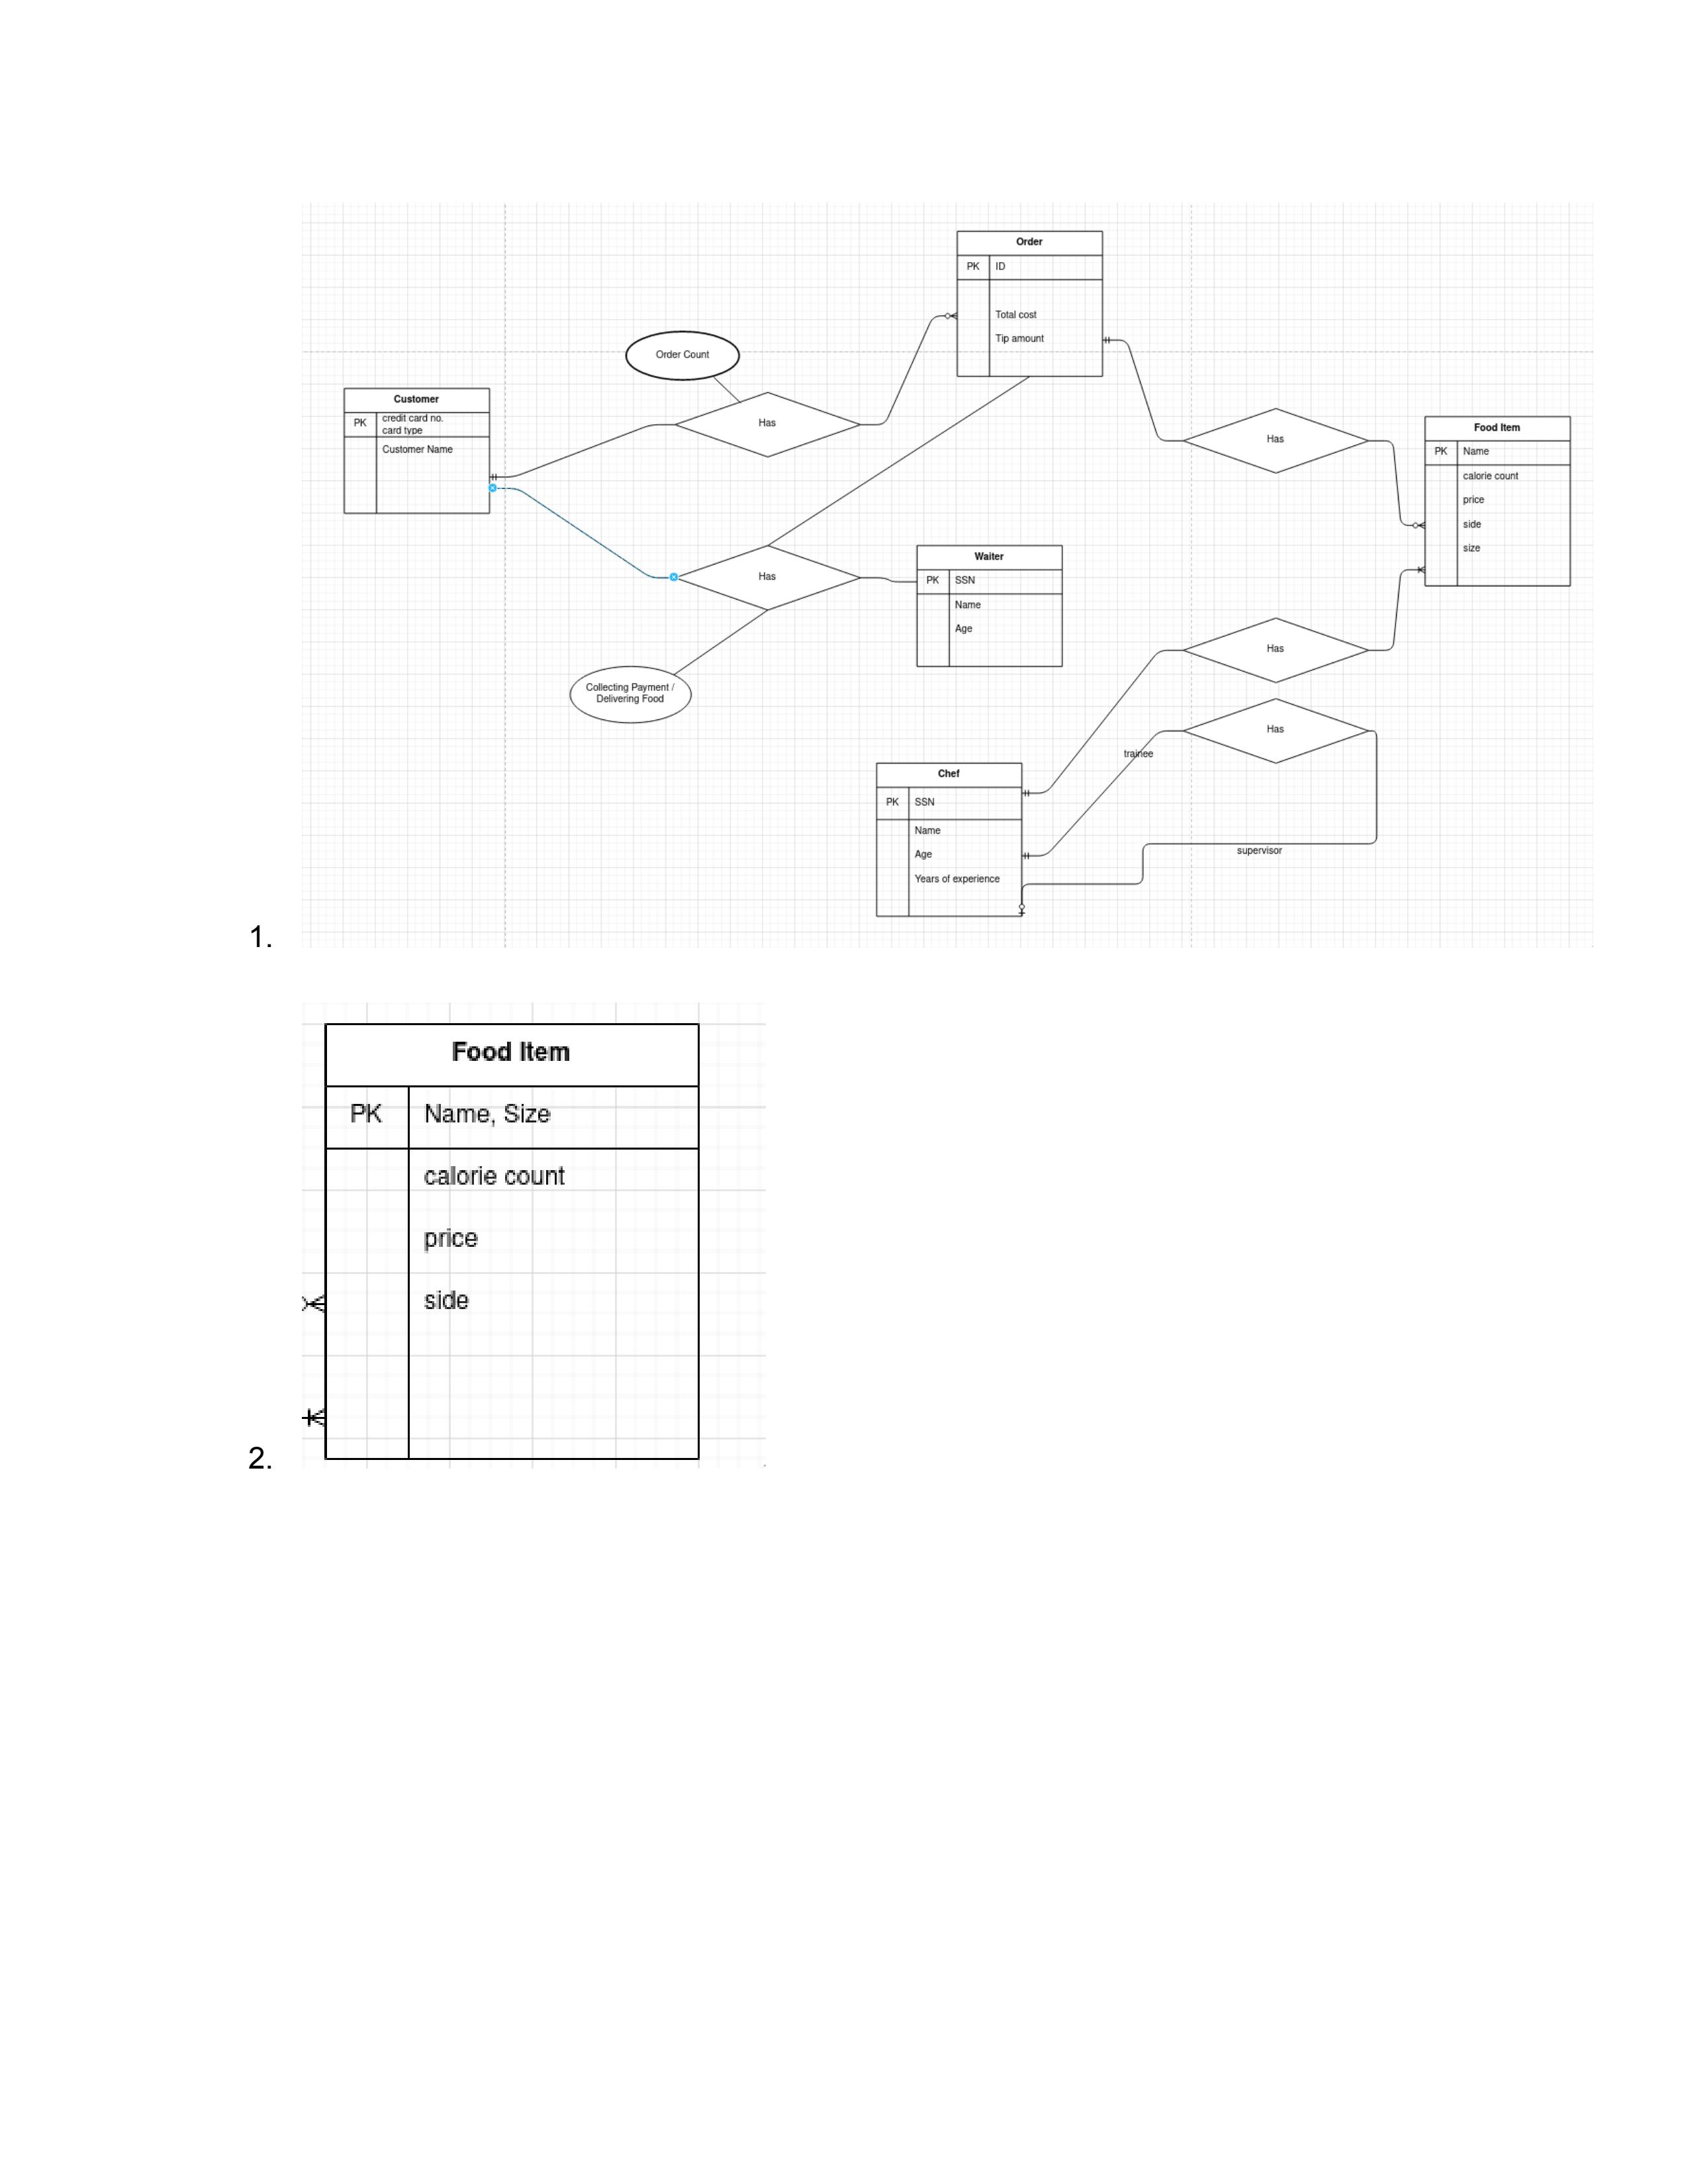Attribute: (567, 665, 693, 723), (624, 330, 739, 381)
Entity: (323, 1021, 700, 1461), (1424, 415, 1573, 587), (876, 762, 1025, 918), (956, 230, 1105, 378), (342, 386, 491, 514), (915, 544, 1064, 668)
Relationship: (1184, 617, 1369, 684), (1184, 697, 1369, 764), (674, 392, 860, 457), (1183, 408, 1369, 473), (676, 546, 860, 612)
